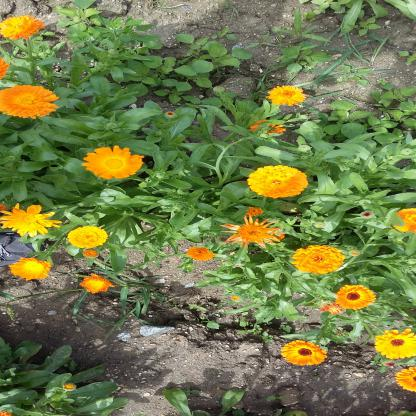marigold: (147, 271, 181, 333), (167, 104, 198, 166), (85, 356, 117, 416), (204, 354, 234, 414), (246, 71, 274, 120), (219, 136, 244, 188), (339, 88, 366, 134), (331, 0, 359, 42), (285, 39, 310, 81), (16, 372, 39, 414), (258, 364, 280, 404), (227, 308, 248, 348), (86, 113, 105, 146), (276, 304, 293, 334), (247, 203, 261, 230)
